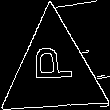P_W: (30, 51, 77, 91)
